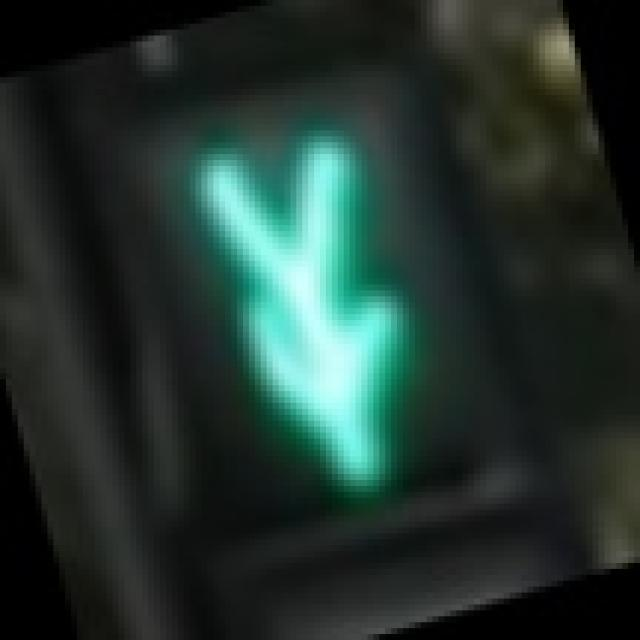green_light: (130, 71, 492, 551)
